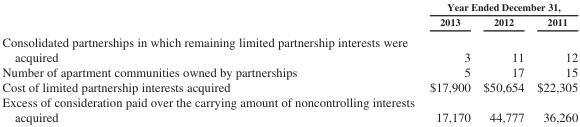table: (1, 0, 577, 124)
table column: (1, 0, 421, 124), (421, 0, 476, 124), (476, 0, 529, 124), (529, 0, 577, 124)
table column header: (1, 0, 577, 30)
table row: (1, 30, 577, 64), (1, 94, 577, 124), (1, 14, 577, 30), (1, 64, 577, 79), (1, 79, 577, 94), (1, 0, 577, 14)
table spanning cell: (421, 0, 577, 14)
